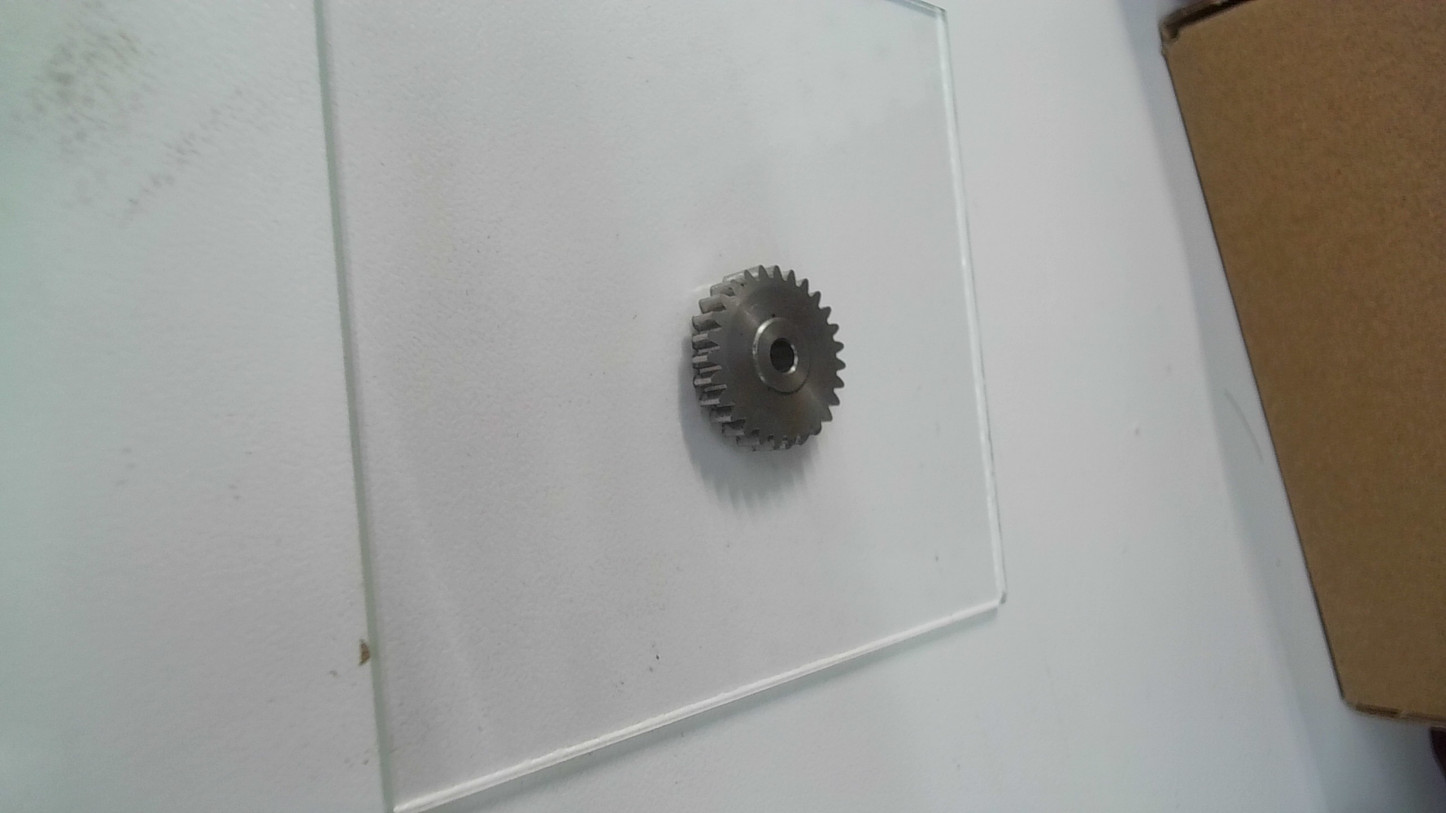gear: (694, 262, 848, 455)
